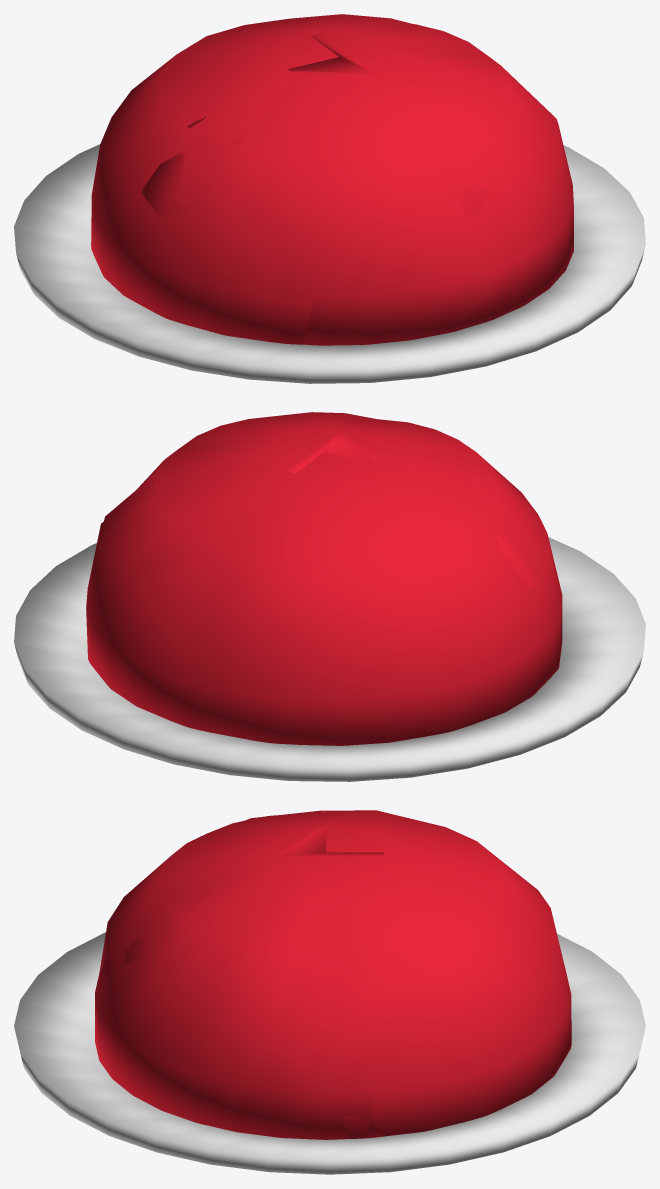
The model's file is cake.fbx.
The picture shows the model from 3 angles, top to bottom: view 1: azimuth 30°, elevation 25°; view 2: azimuth 150°, elevation 25°; view 3: azimuth 270°, elevation 25°; orthographic projection.
Visible parts, largest first — view 1: Cake3/4; view 2: Cake3/4; view 3: Cake3/4.
Boxes of the visible parts, x1,y1,x2,y2 form: Cake3/4: (14,14,645,383); Cake3/4: (14,412,645,781); Cake3/4: (14,810,645,1174).
Size of the model in its own units: 178 by 69.72 by 178.
